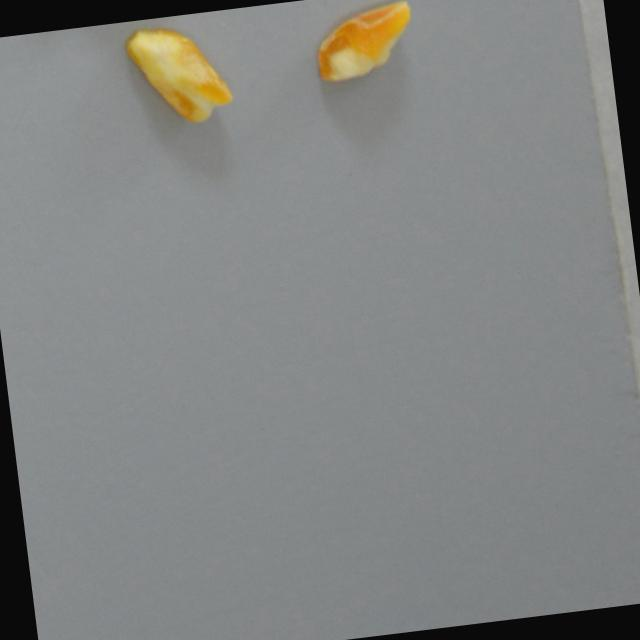pelicula: (125, 20, 237, 135), (305, 0, 439, 88)
